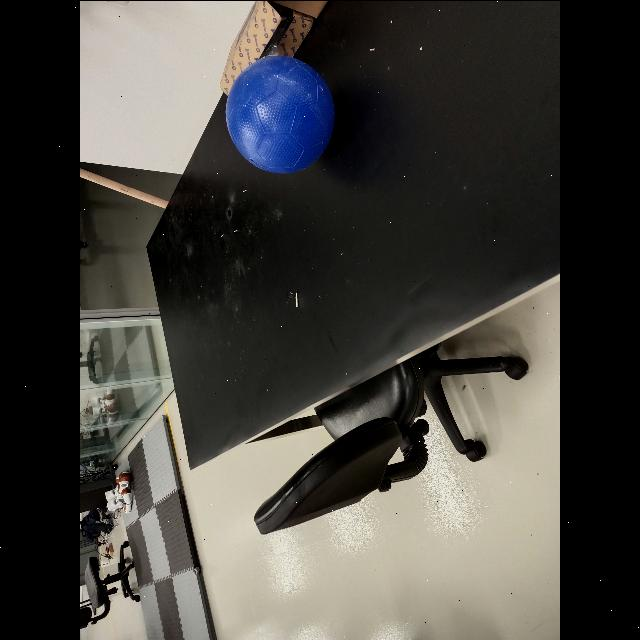B: (227, 55, 336, 173)
